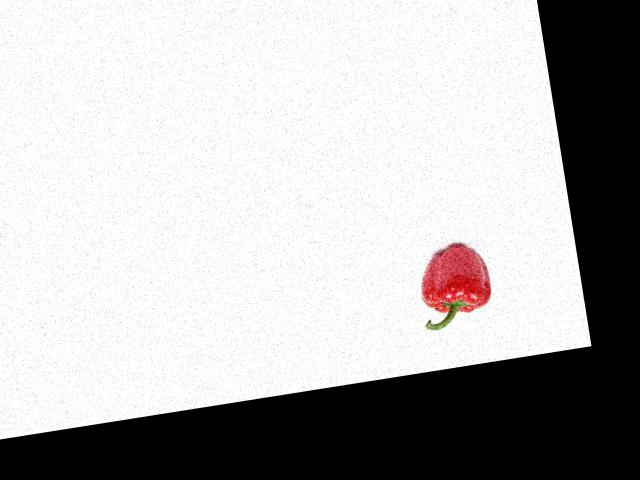bell_pepper: (409, 237, 502, 333)
